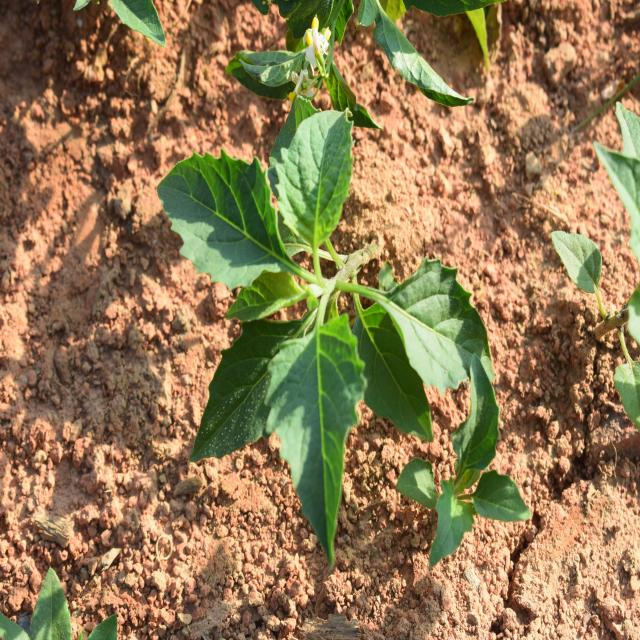Black_nightshade: (179, 118, 486, 554), (409, 385, 531, 553)
